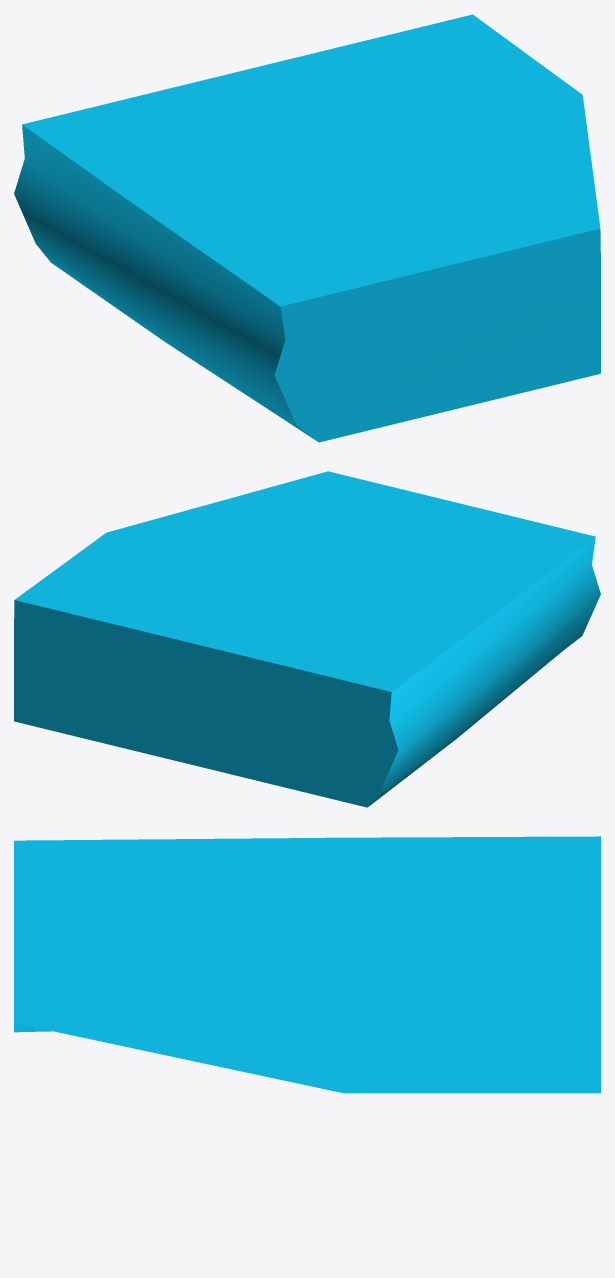
File: woda_3_6_1.FBX
3 renders of one model, top to bottom at view 1: azimuth 30°, elevation 25°; view 2: azimuth 150°, elevation 25°; view 3: azimuth 270°, elevation 25°, orthographic. The views are drawn at different scales.
Visible parts, largest first — view 1: woda_3_6_1; view 2: woda_3_6_1; view 3: woda_3_6_1.
Boxes of the visible parts, x1,y1,x2,y2 form: woda_3_6_1: [14, 14, 600, 442]; woda_3_6_1: [14, 471, 600, 807]; woda_3_6_1: [14, 836, 600, 1093].
Size of the model in its own units: 16.04 by 4.85 by 15.19.
